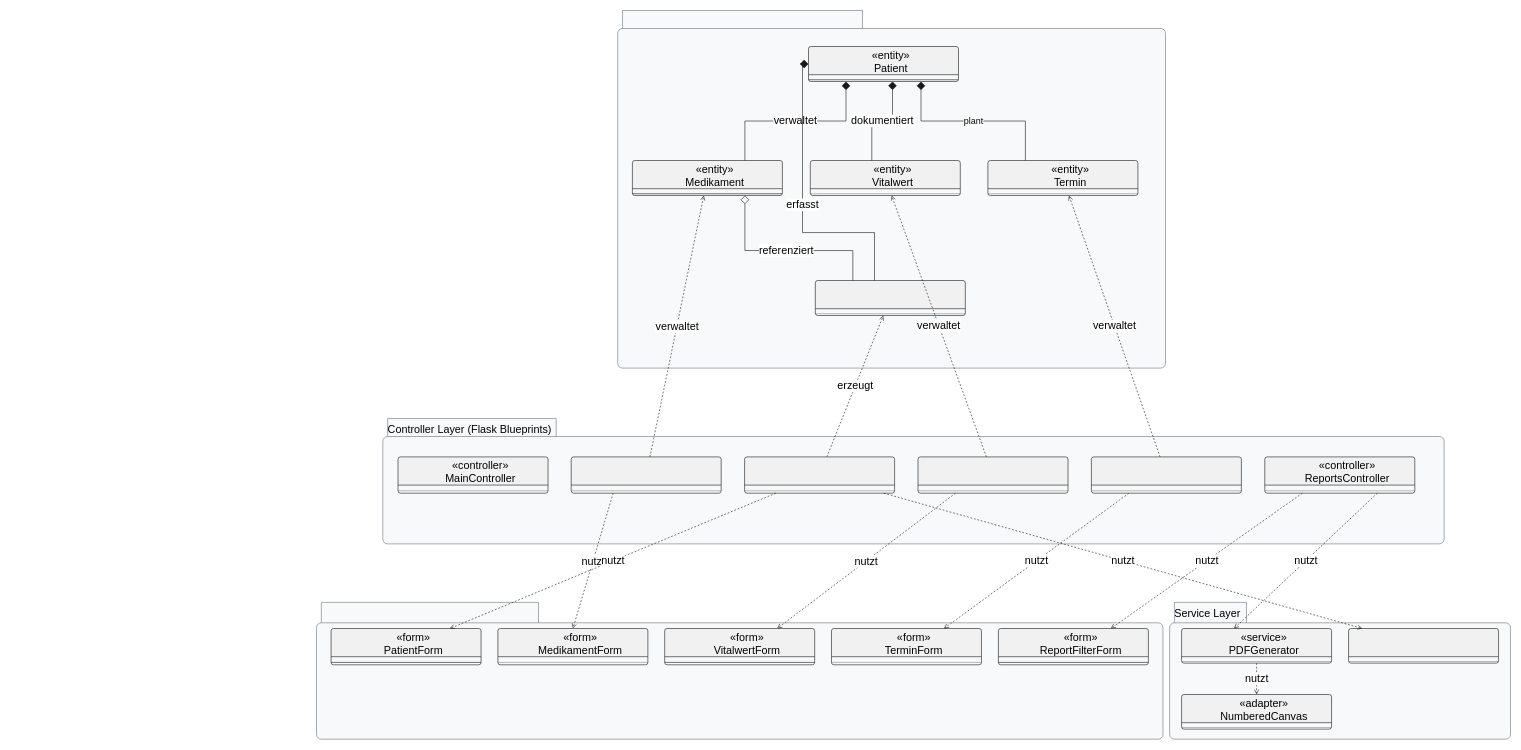
The diagram is 1521 pixels wide and 750 high, and some of its shapes have lost their labels. The box of each missing label's shape, as (x1, y1, x2, y2) in pixels:
Business Logik Layer (Validation / WTForms): (316, 602, 1163, 739)
Data Access Layer (ORM Entities / SQLAlchemy): (617, 10, 1166, 368)
«controller» MedikamenteController: (571, 456, 721, 493)
«controller» PatientController: (744, 456, 895, 493)
«controller» TermineController: (1091, 456, 1241, 493)
«controller» VitaldatenController: (917, 456, 1068, 493)
«entity» EinnahmeProtokoll: (815, 280, 965, 315)
«utility» TimeUtils: (1348, 628, 1499, 663)
